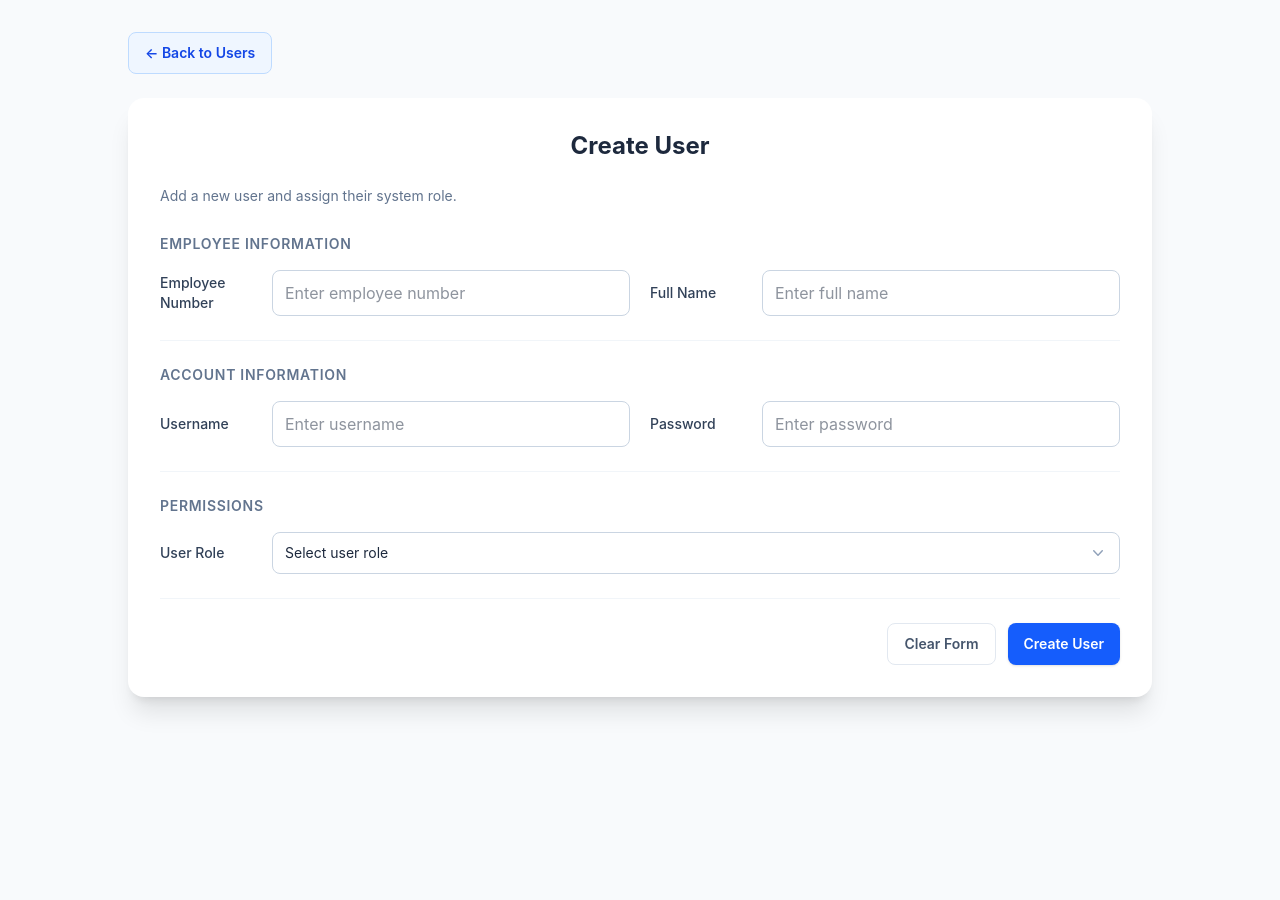
Test case: CreateUser page › cancels confirmation without submitting or clearing entered values
In the field labelled "Employee Number": (451, 293) x1=272 y1=270 x2=630 y2=316, type "EMP-2021"
In the field labelled "Full Name": (941, 293) x1=762 y1=270 x2=1120 y2=316, type "Taylor Technician"
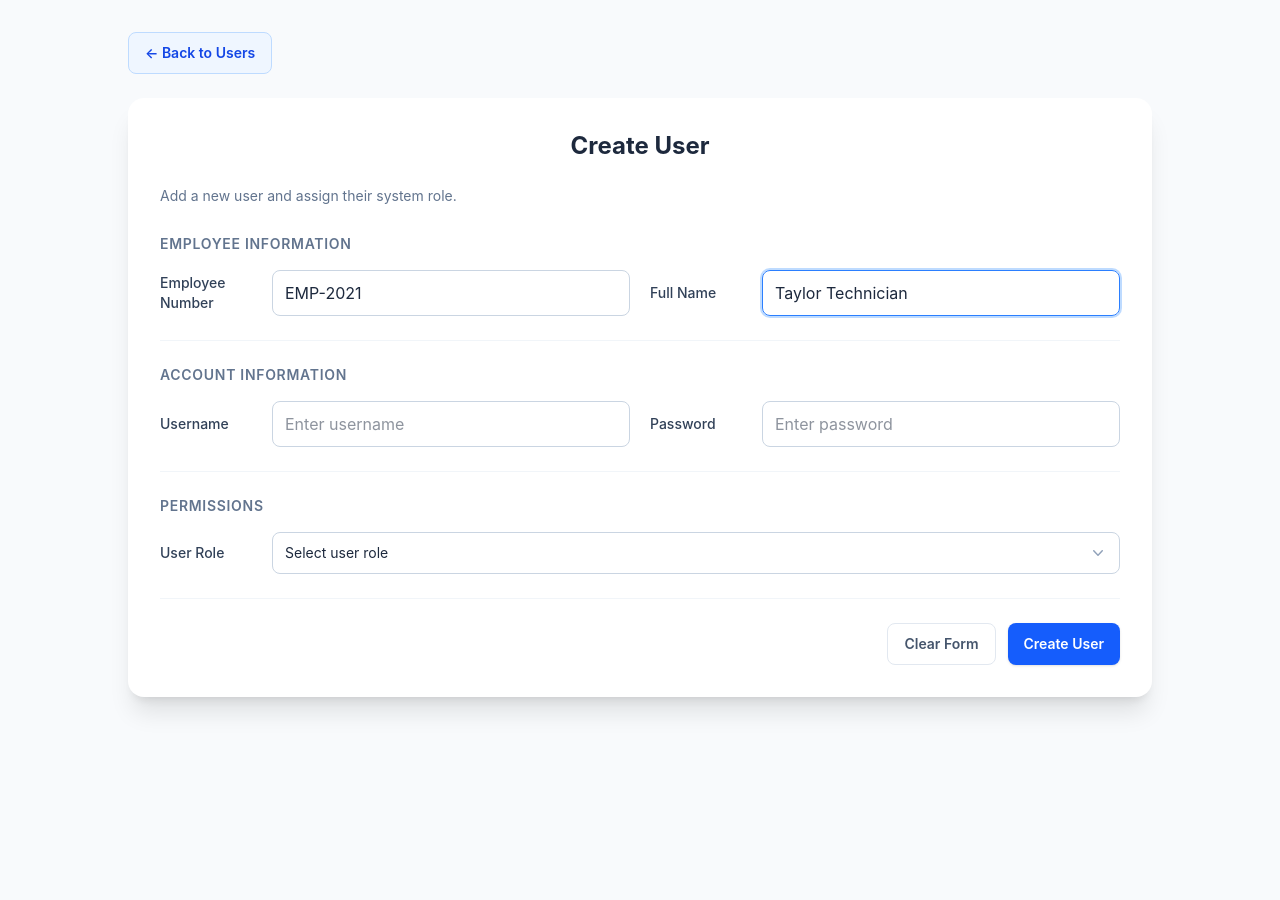
In the field labelled "Username": (451, 424) x1=272 y1=401 x2=630 y2=447, type "taylor.t"
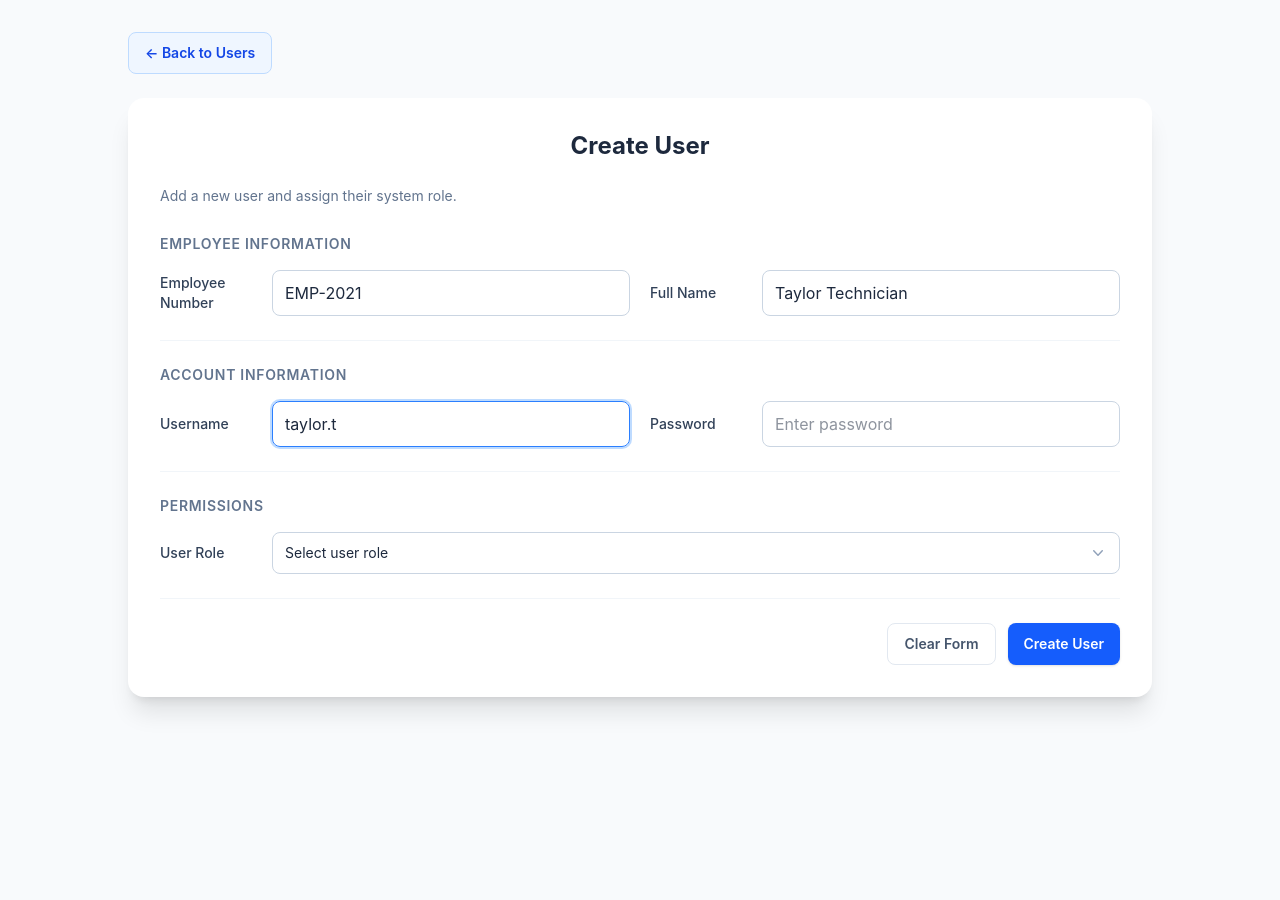
In the password field labelled "Password": (941, 424) x1=762 y1=401 x2=1120 y2=447, type "secure-password"
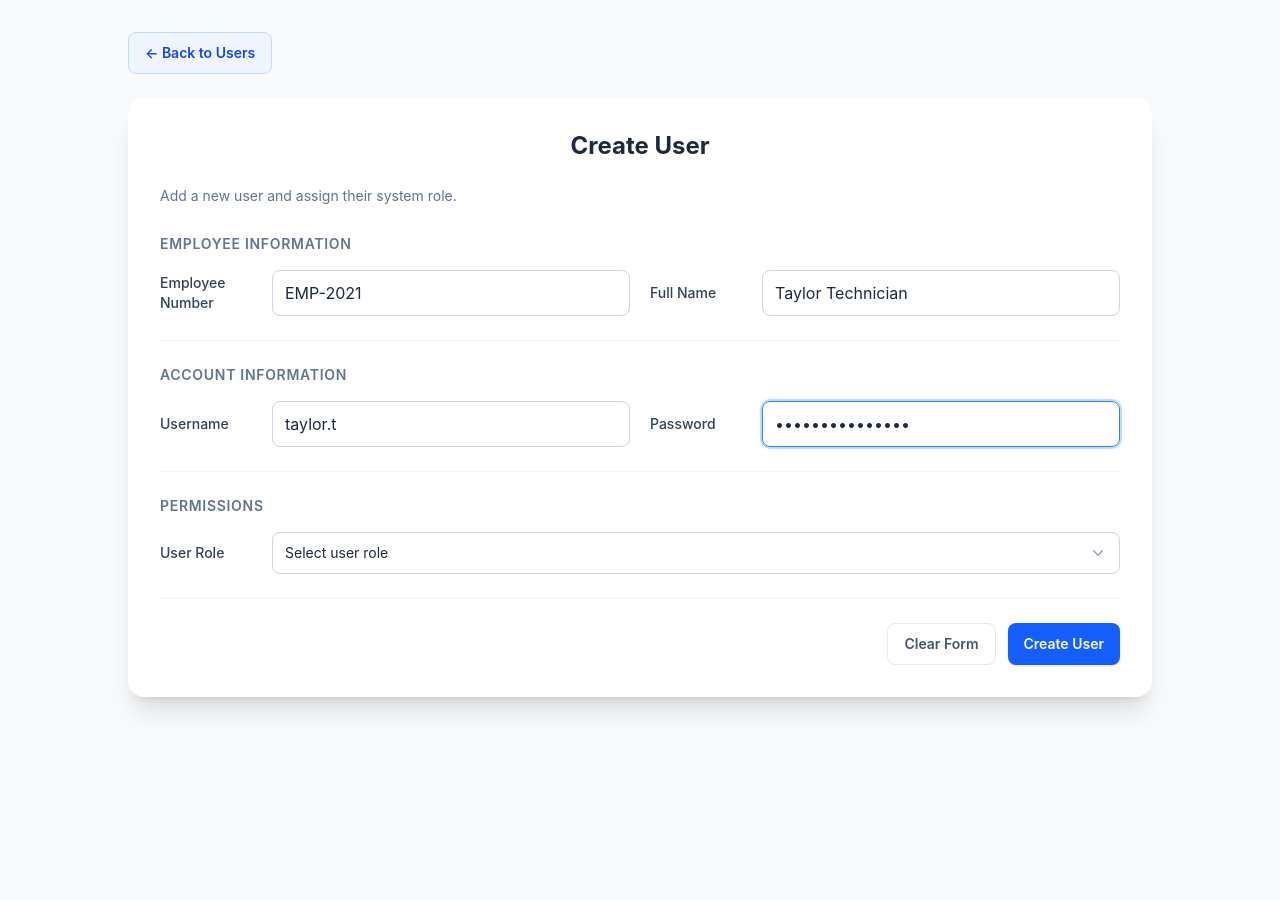
Select "Technician" in the dropdown labelled "User Role": (696, 553) x1=272 y1=532 x2=1120 y2=574
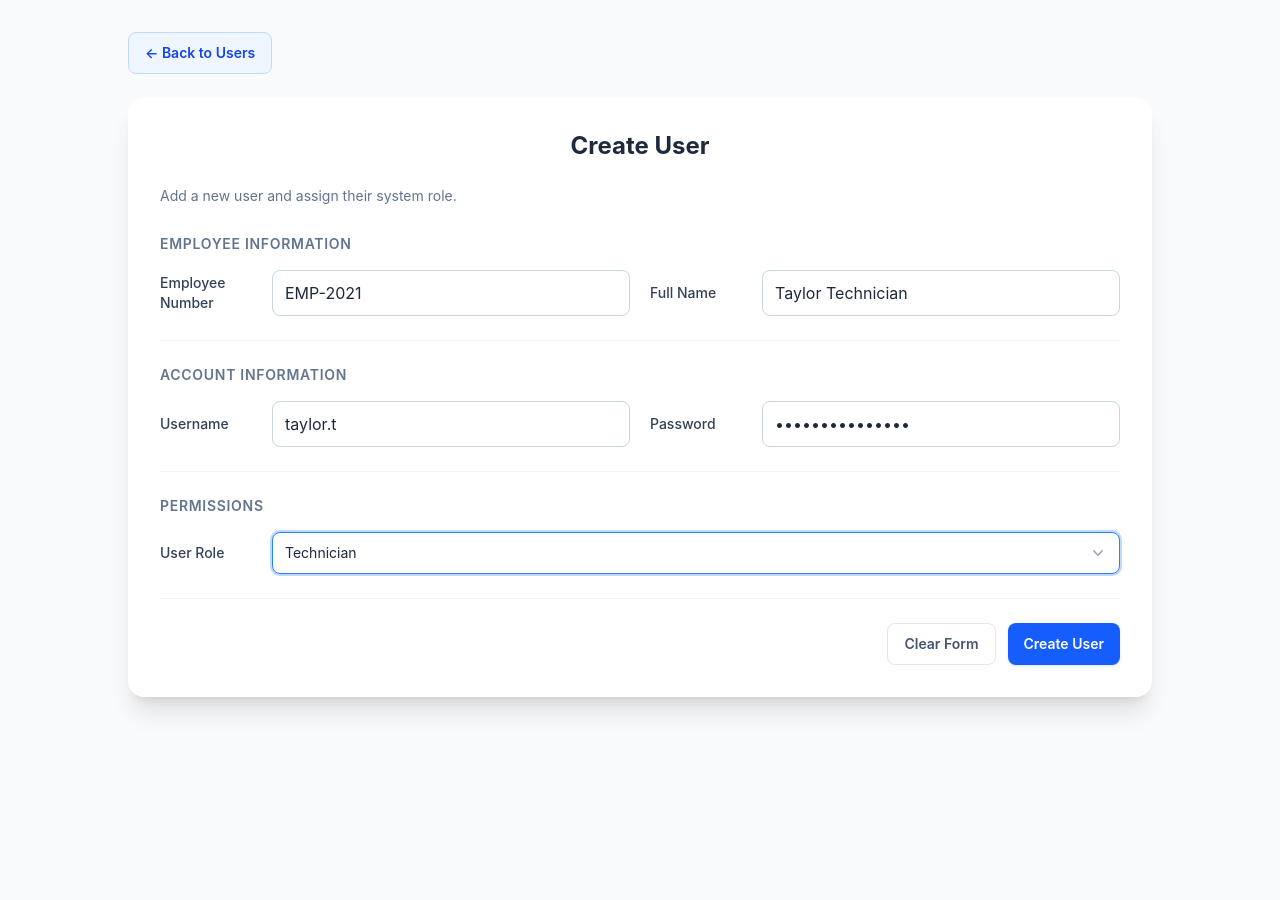
Click the button "Create User": (1064, 644) x1=1008 y1=623 x2=1120 y2=665
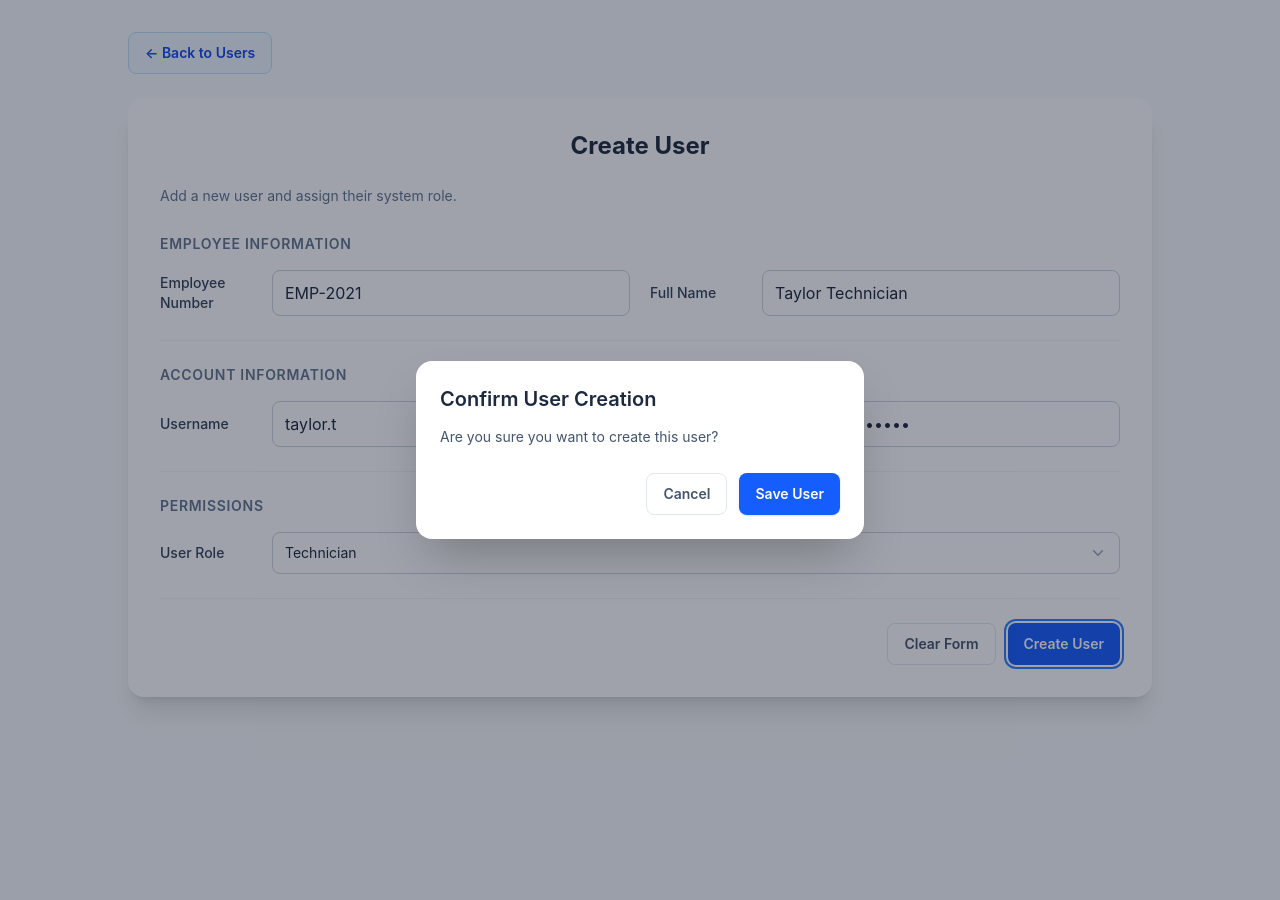
Click the button "Cancel": (687, 494) x1=646 y1=473 x2=728 y2=515
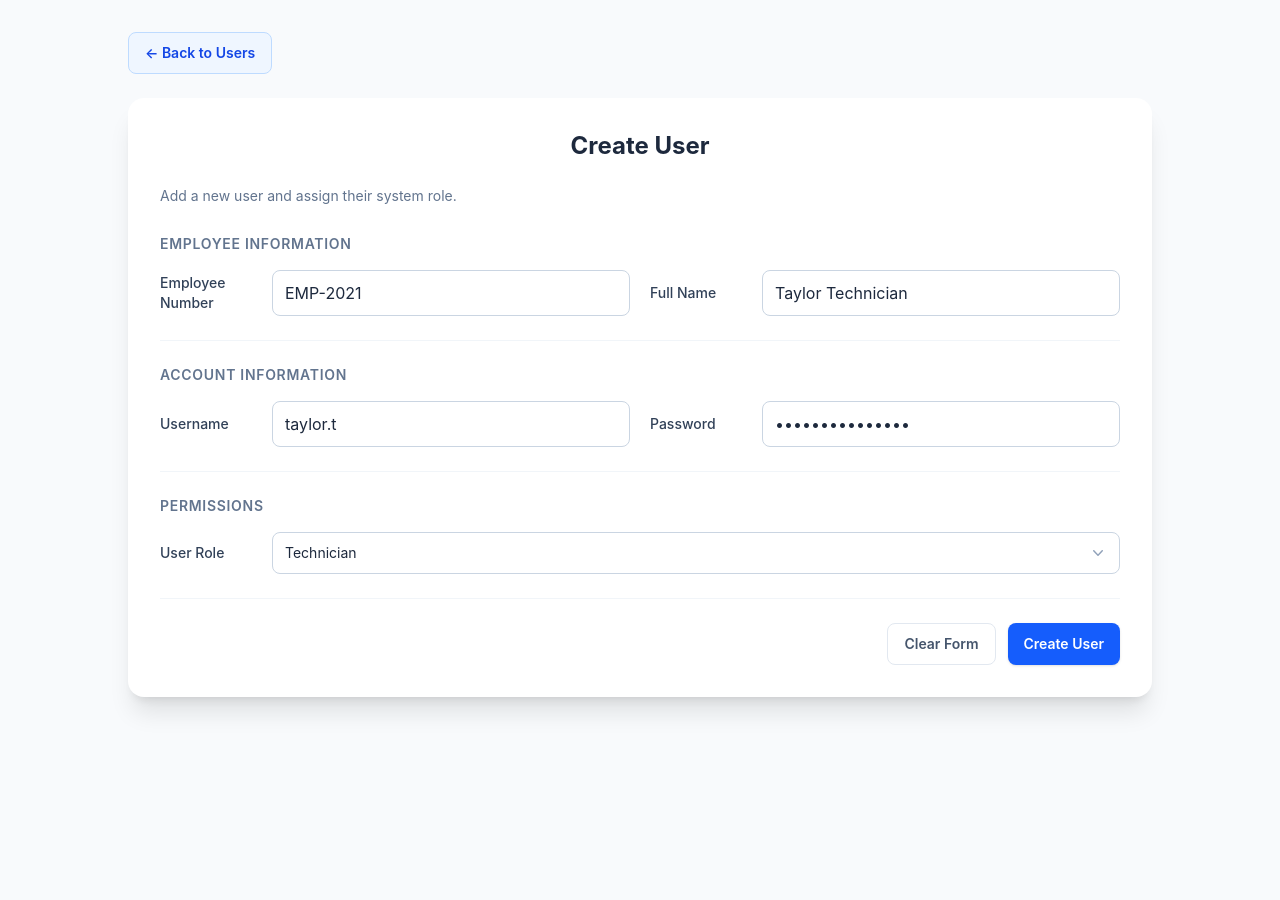
Expected: the heading "Confirm User Creation" is gone
